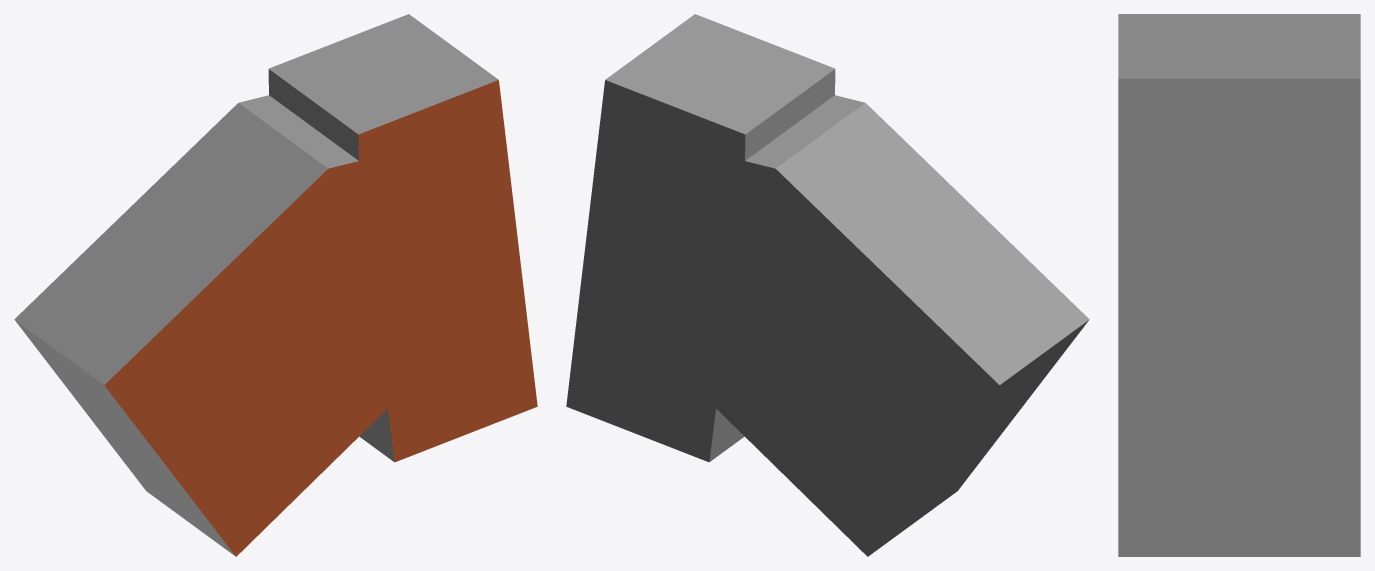
Rendered from construction_0293_assumed_A_Casa_h6m.obj.
3 views of the same model, side by side, from view 1: azimuth 30°, elevation 25°; view 2: azimuth 150°, elevation 25°; view 3: azimuth 270°, elevation 25° (orthographic). The views are drawn at different scales.
Parts seen in each view (by area): view 1: construction_0293_assumed_A_Casa; view 2: construction_0293_assumed_A_Casa; view 3: construction_0293_assumed_A_Casa.
Part boxes in pixels (<box>): construction_0293_assumed_A_Casa: <box>14,14,537,556</box>; construction_0293_assumed_A_Casa: <box>566,14,1089,556</box>; construction_0293_assumed_A_Casa: <box>1118,14,1360,556</box>.
Size of the model in its own units: 16.68 by 15.19 by 6.
